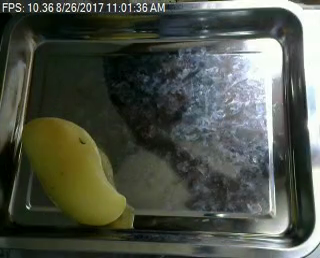Mango: (17, 115, 131, 229)
